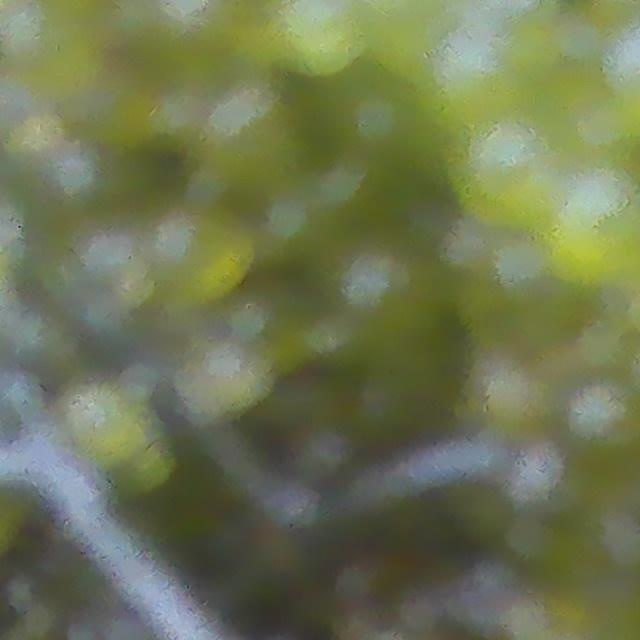SeaGrape: (448, 118, 558, 241), (542, 169, 640, 283), (0, 0, 108, 95), (177, 337, 269, 428), (327, 79, 420, 166), (153, 204, 244, 292), (329, 242, 417, 327), (563, 377, 640, 456)
